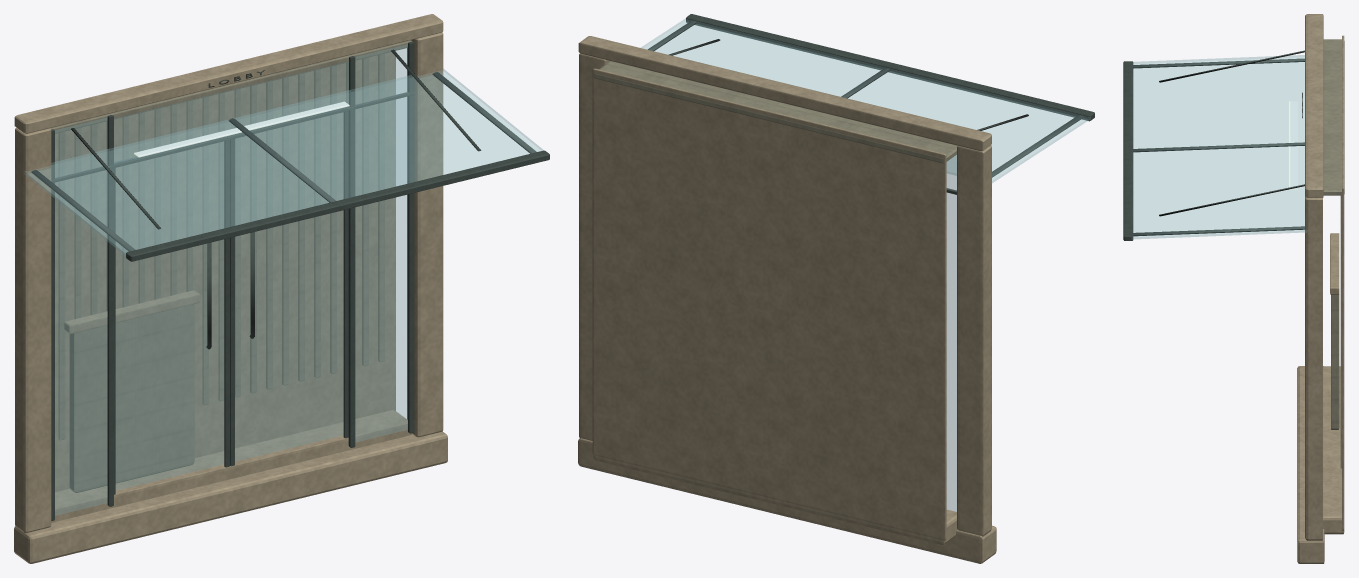
The model's file is modern-lobby-bay.lod0.glb.
3 renders of one model, left to right at view 1: azimuth 30°, elevation 25°; view 2: azimuth 150°, elevation 25°; view 3: azimuth 270°, elevation 25°, orthographic. The views are drawn at different scales.
Parts seen in each view (by area): view 1: modern-lobby-bay; view 2: modern-lobby-bay; view 3: modern-lobby-bay.
Boxes of the visible parts, x1,y1,x2,y2 form: modern-lobby-bay: [14, 14, 549, 563]; modern-lobby-bay: [578, 14, 1094, 563]; modern-lobby-bay: [1123, 14, 1344, 563].
Size of the model in its own units: 3.2 by 3.2 by 1.7.
3 materials, 1 textured.
